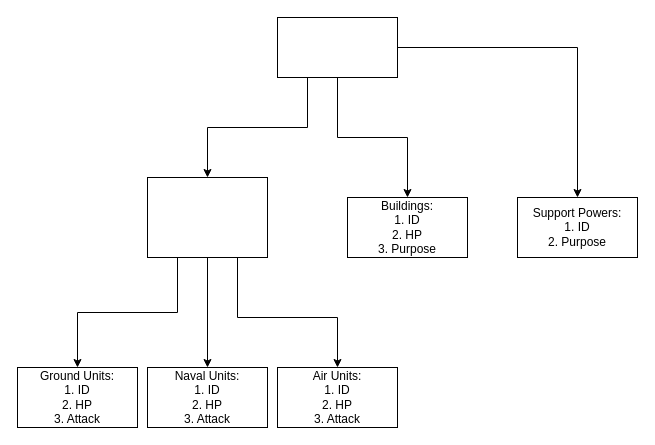
The diagram is 655 pixels wide and 445 high, and some of its shapes have lost their labels. Each missing label, with the box of its shape:
Faction: (276, 16, 398, 78)
Units: 1. ID 2. HP 3. Attack 4. Ground/Naval/Air: (146, 176, 268, 258)
